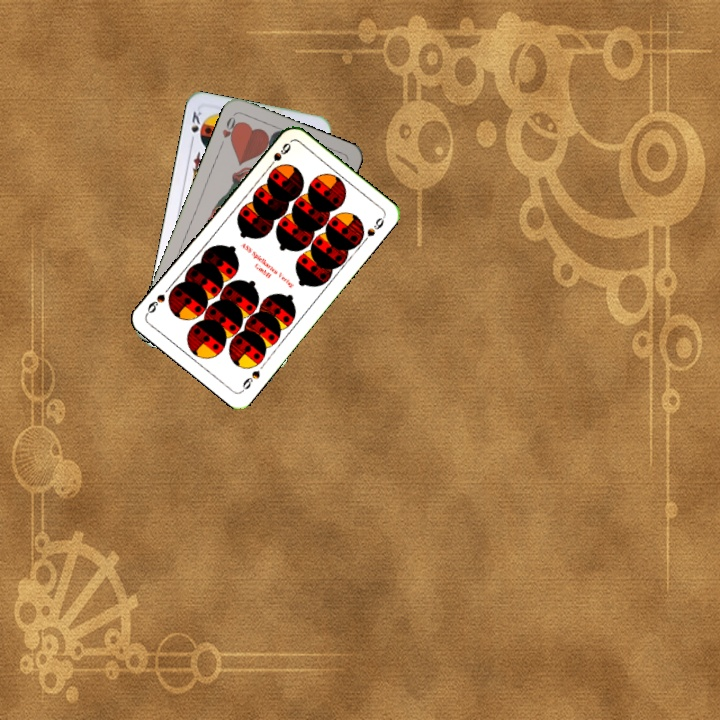HO: (216, 111, 242, 150)
S9: (263, 139, 294, 172), (237, 366, 263, 395)
SK: (187, 106, 204, 146)
